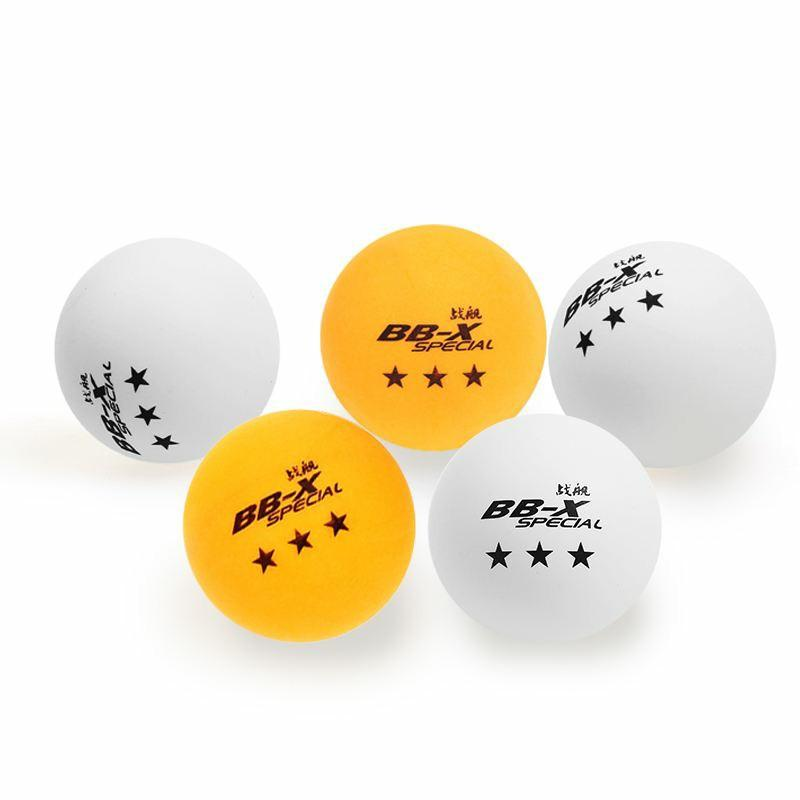ball: (422, 404, 679, 655), (543, 228, 784, 479), (179, 404, 419, 649), (313, 218, 554, 460), (48, 230, 285, 467)
